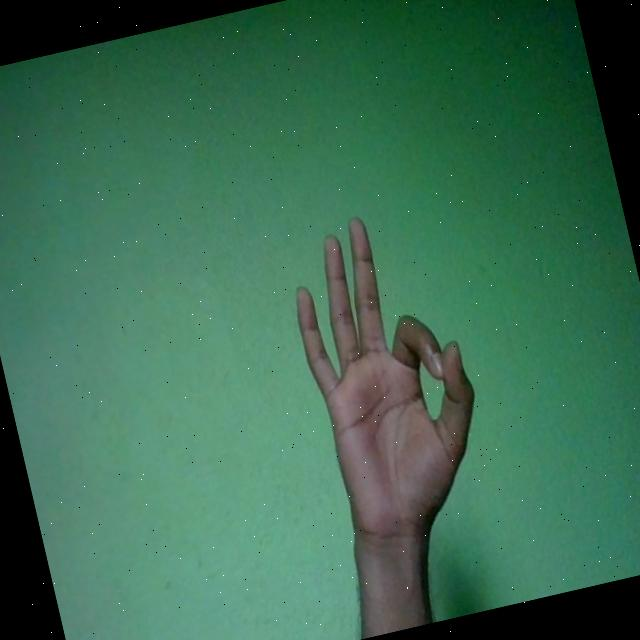Rock On: (278, 199, 502, 551)
